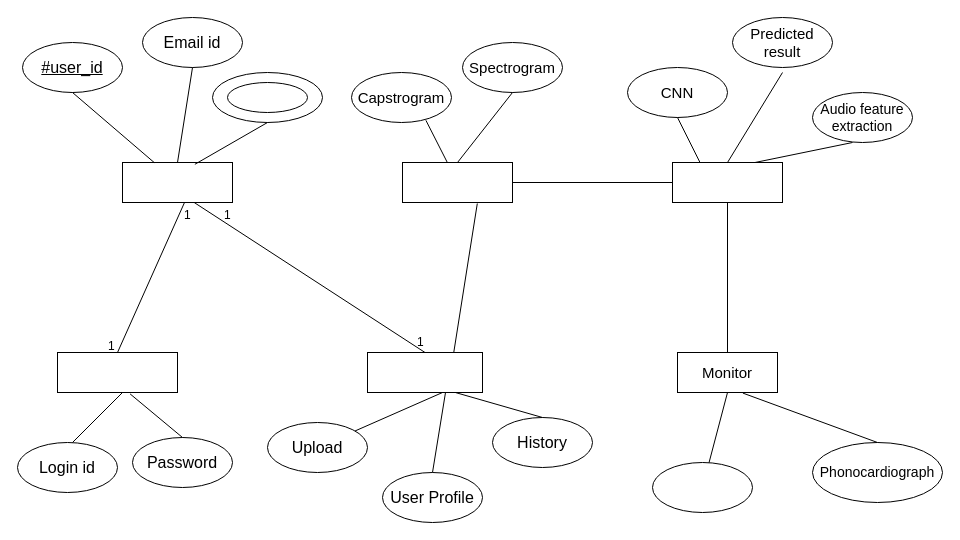
Some shapes in this 960 by 540 pixel diagram are drawn without their labels. The shapes that lost their labels are listed below. From the top down, each one's centre as x and y in pixels, then its label:
the point at 267,97: Phone no
the point at 177,182: User
the point at 457,182: Features
the point at 727,182: Classifier
the point at 117,372: Login
the point at 424,372: Database
the point at 702,487: Display
